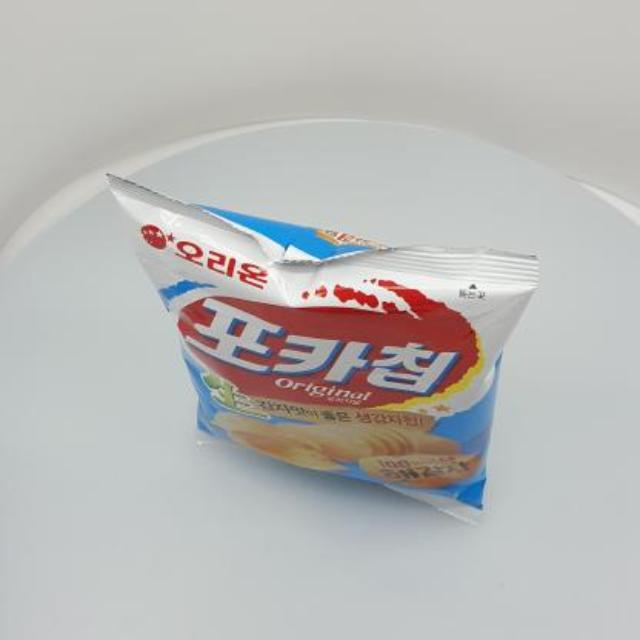snack_bag: (84, 137, 560, 553)
